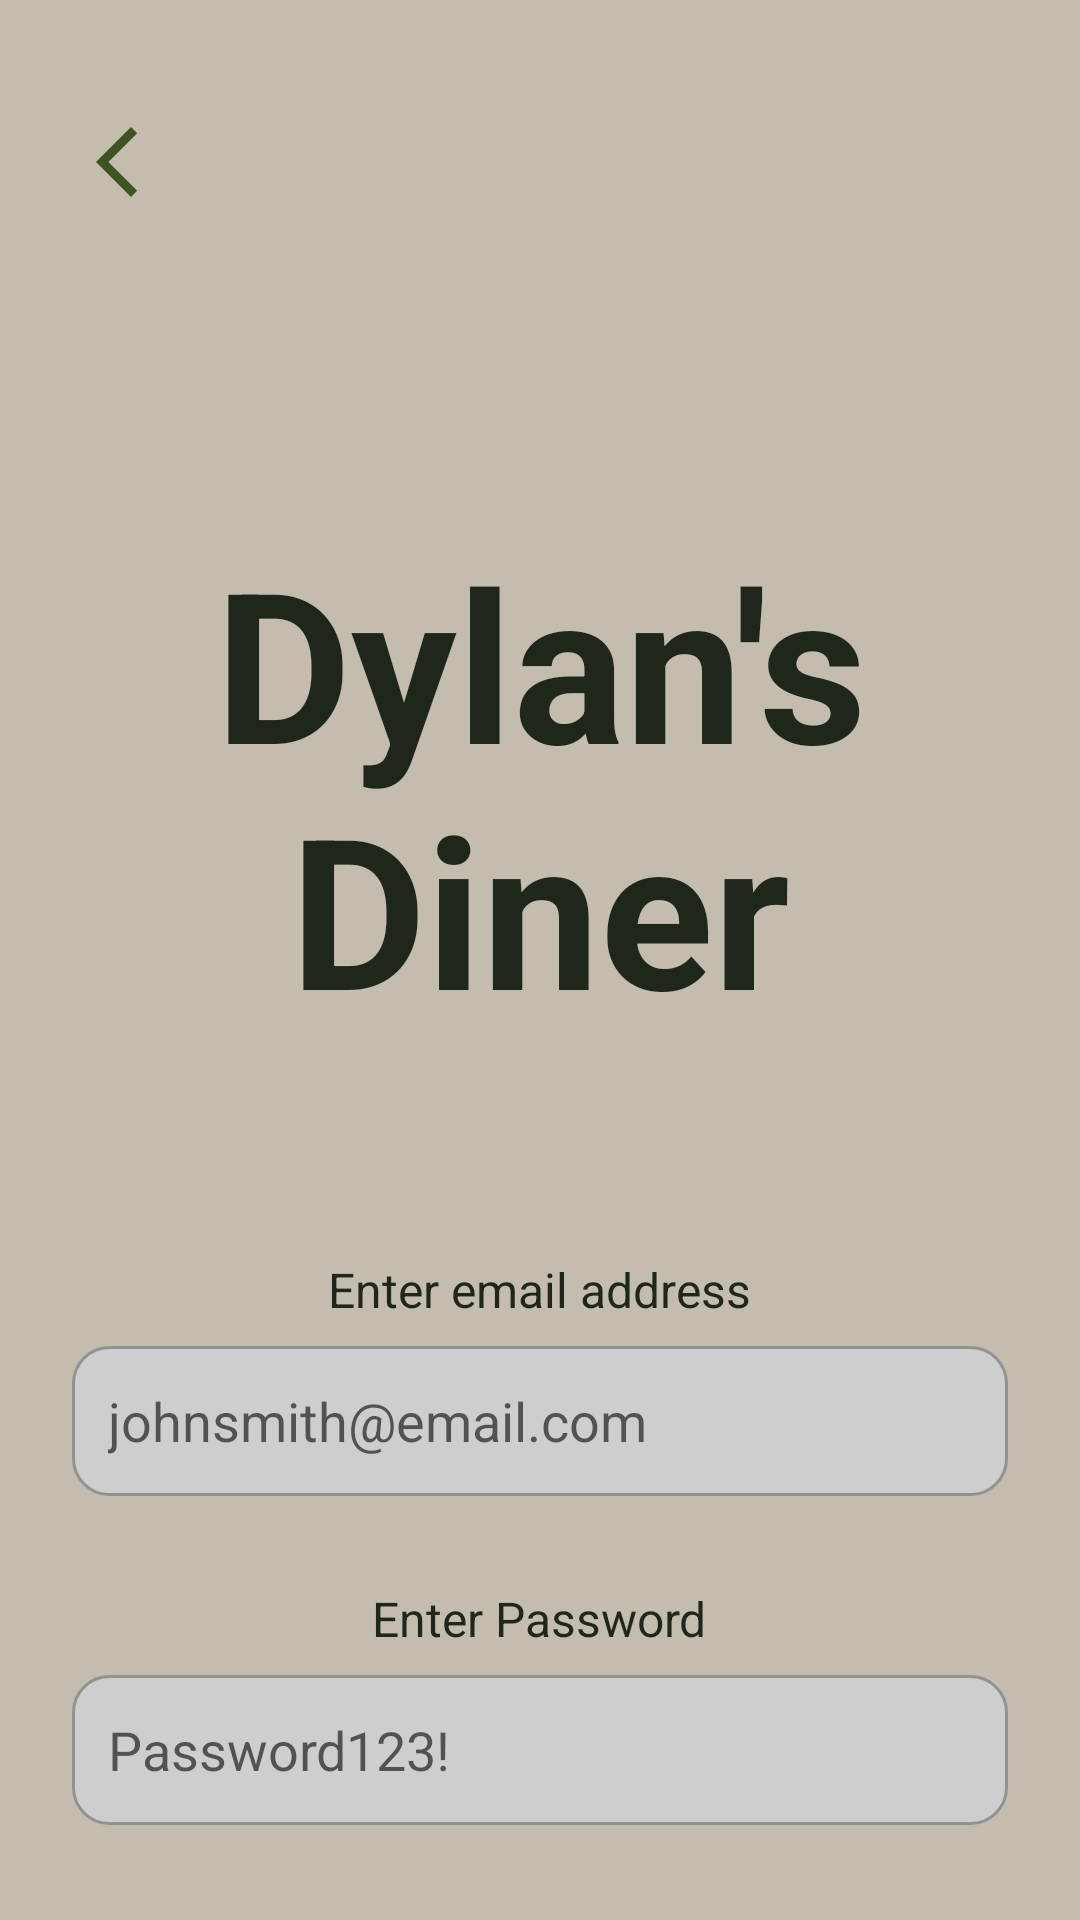

Where icons sit on this 1080px x 1920px app screen, as detection(x1, y1, x2, y2):
Back: detection(96, 127, 137, 197)
